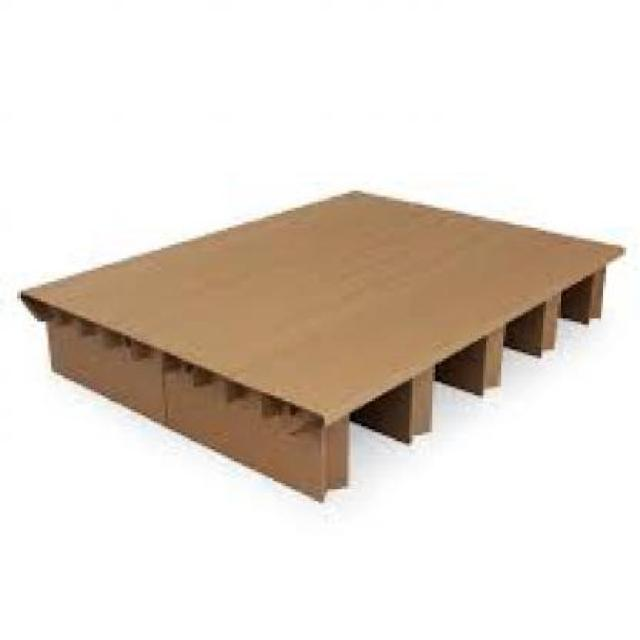cardboard: (14, 188, 620, 500)
